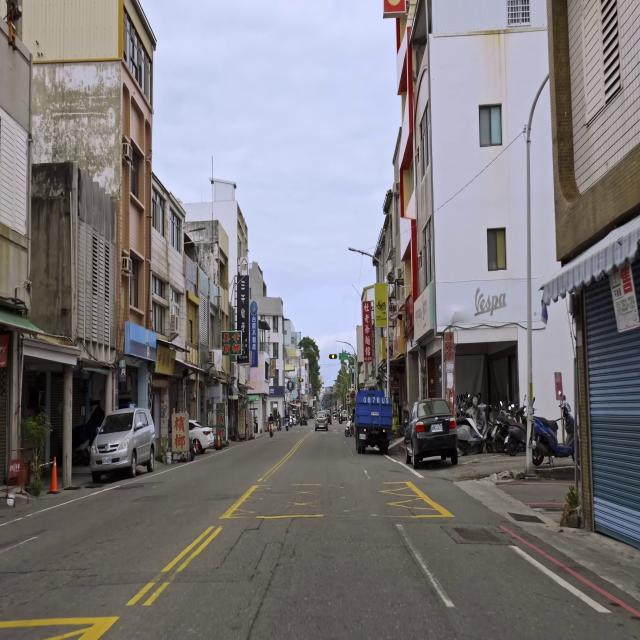yellow light: (329, 353, 337, 360), (298, 378, 304, 382)
